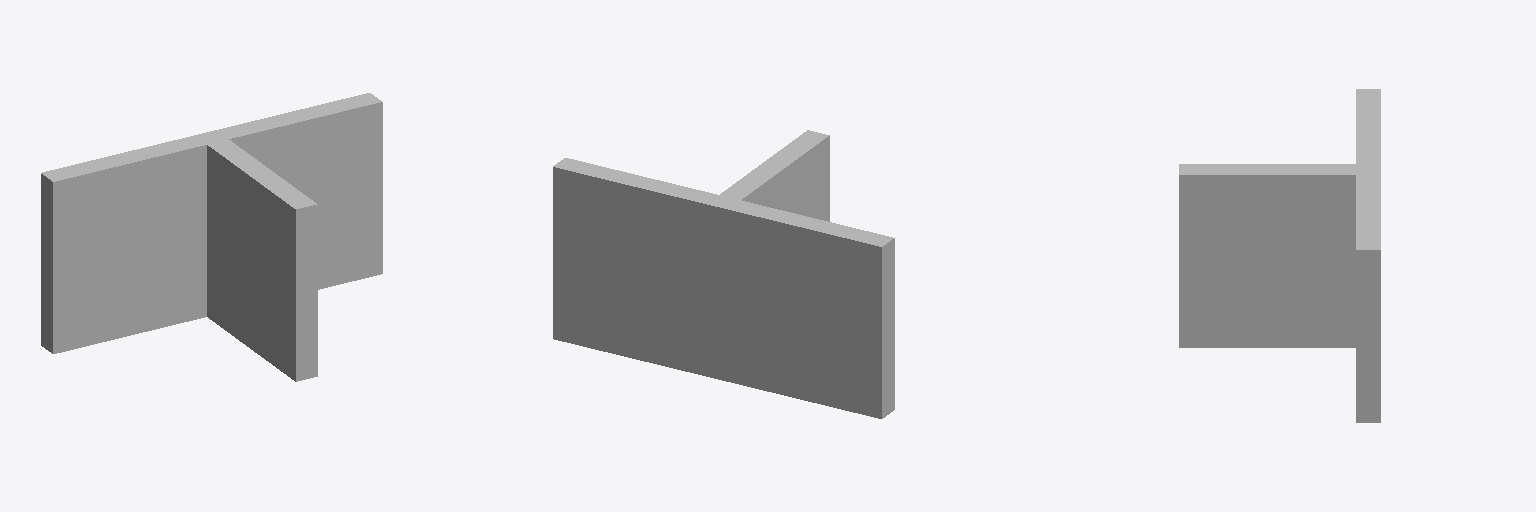
Rendered from WallT.obj.
3 views of the same model, side by side, from view 1: azimuth 30°, elevation 25°; view 2: azimuth 150°, elevation 25°; view 3: azimuth 270°, elevation 25° (orthographic).
Parts seen in each view (by area): view 1: WallT; view 2: WallT; view 3: WallT.
Boxes of the visible parts, x1=… form: WallT: x1=41, y1=93, x2=382, y2=381; WallT: x1=553, y1=130, x2=894, y2=418; WallT: x1=1179, y1=89, x2=1380, y2=422.
Size of the model in its own units: 6 by 3 by 3.2.